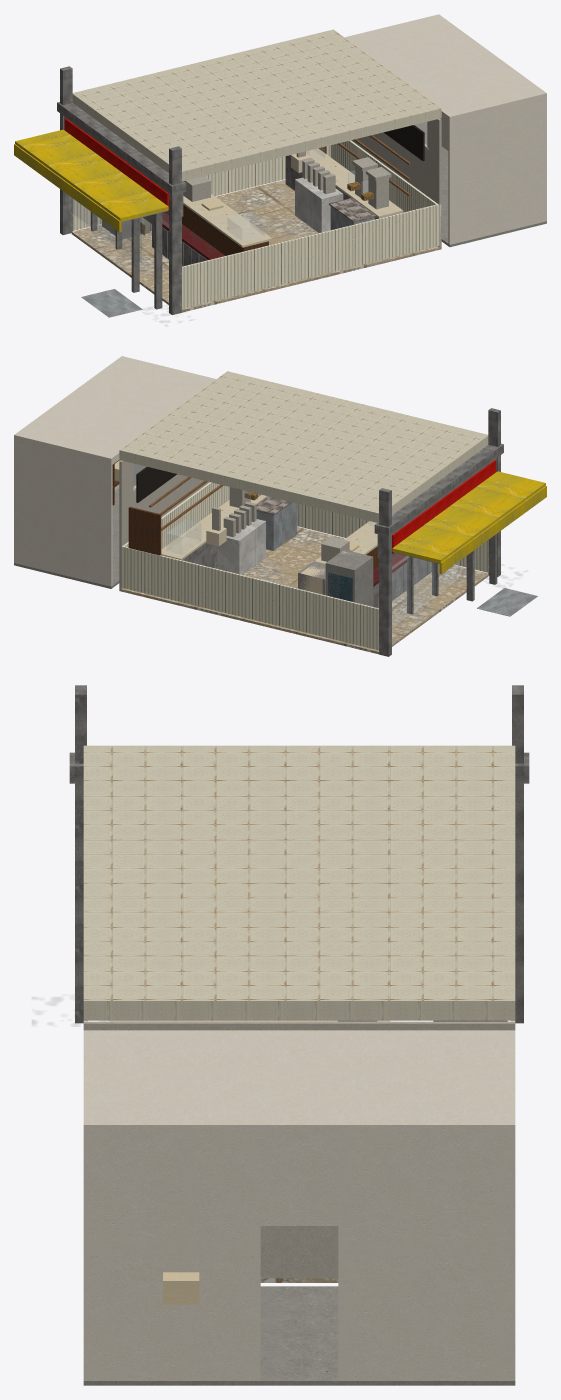
The model's file is shop_luncheonette.gltf.
The picture shows the model from 3 angles, top to bottom: view 1: azimuth 30°, elevation 25°; view 2: azimuth 150°, elevation 25°; view 3: azimuth 270°, elevation 25°; orthographic projection. The views are drawn at different scales.
Parts seen in each view (by area): view 1: F01_OWN_SHOP_LUNCHEONETTE_retail_shop_luncheonette_tin_ceili, F01_OWN_SHOP_LUNCHEONETTE_retail_shop_luncheonette_plaster-c, F01_OWN_SHOP_LUNCHEONETTE_retail_shop_luncheonette_wainscot-, F01_OWN_SHOP_LUNCHEONETTE_retail_shop_luncheonette_chrome-co, F01_OWN_SHOP_LUNCHEONETTE_retail_shop_luncheonette_terrazzo-, F01_OWN_SHOP_LUNCHEONETTE_retail_shop_luncheonette_awning_vi, F01_OWN_SHOP_LUNCHEONETTE_retail_shop_luncheonette_counterto, F01_OWN_SHOP_LUNCHEONETTE_retail_shop_luncheonette_plaster_s, F01_OWN_SHOP_LUNCHEONETTE_retail_shop_luncheonette_glassish-, F01_OWN_SHOP_LUNCHEONETTE_retail_shop_luncheonette_nickel_pl, F01_OWN_SHOP_LUNCHEONETTE_retail_shop_luncheonette_marble_lo, F01_OWN_SHOP_LUNCHEONETTE_retail_shop_luncheonette_lacquer_r (+8 smaller); view 2: F01_OWN_SHOP_LUNCHEONETTE_retail_shop_luncheonette_tin_ceili, F01_OWN_SHOP_LUNCHEONETTE_retail_shop_luncheonette_plaster-c, F01_OWN_SHOP_LUNCHEONETTE_retail_shop_luncheonette_wainscot-, F01_OWN_SHOP_LUNCHEONETTE_retail_shop_luncheonette_chrome-co, F01_OWN_SHOP_LUNCHEONETTE_retail_shop_luncheonette_awning_vi, F01_OWN_SHOP_LUNCHEONETTE_retail_shop_luncheonette_terrazzo-, F01_OWN_SHOP_LUNCHEONETTE_retail_shop_luncheonette_glassish-, F01_OWN_SHOP_LUNCHEONETTE_retail_shop_luncheonette_plaster_s, F01_OWN_SHOP_LUNCHEONETTE_retail_shop_luncheonette_hull-colo, F01_OWN_SHOP_LUNCHEONETTE_retail_shop_luncheonette_metal-col, F01_OWN_SHOP_LUNCHEONETTE_retail_shop_luncheonette_counterto, F01_OWN_SHOP_LUNCHEONETTE_retail_shop_luncheonette_marble_lo (+9 smaller); view 3: F01_OWN_SHOP_LUNCHEONETTE_retail_shop_luncheonette_plaster-c, F01_OWN_SHOP_LUNCHEONETTE_retail_shop_luncheonette_tin_ceili, F01_OWN_SHOP_LUNCHEONETTE_retail_shop_luncheonette_concrete-, F01_OWN_SHOP_LUNCHEONETTE_retail_shop_luncheonette_plaster_s, F01_OWN_SHOP_LUNCHEONETTE_retail_shop_luncheonette_chrome-co, F01_OWN_SHOP_LUNCHEONETTE_retail_shop_luncheonette_paper-col.
Part boxes in pixels (x1,y1,x2,y2): F01_OWN_SHOP_LUNCHEONETTE_retail_shop_luncheonette_tin_ceili: (72,29,441,180); F01_OWN_SHOP_LUNCHEONETTE_retail_shop_luncheonette_plaster-c: (345,14,546,244); F01_OWN_SHOP_LUNCHEONETTE_retail_shop_luncheonette_wainscot-: (72,140,441,308); F01_OWN_SHOP_LUNCHEONETTE_retail_shop_luncheonette_chrome-co: (57,66,399,314); F01_OWN_SHOP_LUNCHEONETTE_retail_shop_luncheonette_terrazzo-: (71,179,441,312); F01_OWN_SHOP_LUNCHEONETTE_retail_shop_luncheonette_awning_vi: (14,129,168,232); F01_OWN_SHOP_LUNCHEONETTE_retail_shop_luncheonette_counterto: (183,148,403,247); F01_OWN_SHOP_LUNCHEONETTE_retail_shop_luncheonette_plaster_s: (351,118,441,247); F01_OWN_SHOP_LUNCHEONETTE_retail_shop_luncheonette_glassish-: (69,122,426,265); F01_OWN_SHOP_LUNCHEONETTE_retail_shop_luncheonette_nickel_pl: (183,151,391,209); F01_OWN_SHOP_LUNCHEONETTE_retail_shop_luncheonette_marble_lo: (295,177,343,232); F01_OWN_SHOP_LUNCHEONETTE_retail_shop_luncheonette_lacquer_r: (64,118,168,211); F01_OWN_SHOP_LUNCHEONETTE_retail_shop_luncheonette_tin_ceili: (119,371,488,522); F01_OWN_SHOP_LUNCHEONETTE_retail_shop_luncheonette_plaster-c: (14,356,216,586); F01_OWN_SHOP_LUNCHEONETTE_retail_shop_luncheonette_wainscot-: (121,482,488,650); F01_OWN_SHOP_LUNCHEONETTE_retail_shop_luncheonette_chrome-co: (182,408,503,656); F01_OWN_SHOP_LUNCHEONETTE_retail_shop_luncheonette_awning_vi: (392,471,546,573); F01_OWN_SHOP_LUNCHEONETTE_retail_shop_luncheonette_terrazzo-: (119,527,489,654); F01_OWN_SHOP_LUNCHEONETTE_retail_shop_luncheonette_glassish-: (134,464,459,627); F01_OWN_SHOP_LUNCHEONETTE_retail_shop_luncheonette_plaster_s: (119,460,209,589); F01_OWN_SHOP_LUNCHEONETTE_retail_shop_luncheonette_hull-colo: (298,549,373,606); F01_OWN_SHOP_LUNCHEONETTE_retail_shop_luncheonette_metal-col: (256,502,537,616); F01_OWN_SHOP_LUNCHEONETTE_retail_shop_luncheonette_counterto: (161,495,377,563); F01_OWN_SHOP_LUNCHEONETTE_retail_shop_luncheonette_marble_lo: (217,519,265,574); F01_OWN_SHOP_LUNCHEONETTE_retail_shop_luncheonette_plaster-c: (83,1030,515,1380); F01_OWN_SHOP_LUNCHEONETTE_retail_shop_luncheonette_tin_ceili: (83,745,515,1020); F01_OWN_SHOP_LUNCHEONETTE_retail_shop_luncheonette_concrete-: (83,1286,515,1385); F01_OWN_SHOP_LUNCHEONETTE_retail_shop_luncheonette_plaster_s: (83,1021,515,1278); F01_OWN_SHOP_LUNCHEONETTE_retail_shop_luncheonette_chrome-co: (69,685,529,1023); F01_OWN_SHOP_LUNCHEONETTE_retail_shop_luncheonette_paper-col: (163,1020,314,1304).
Size of the model in its own units: 11.66 by 4.25 by 5.76.
33 materials, 31 textured.
